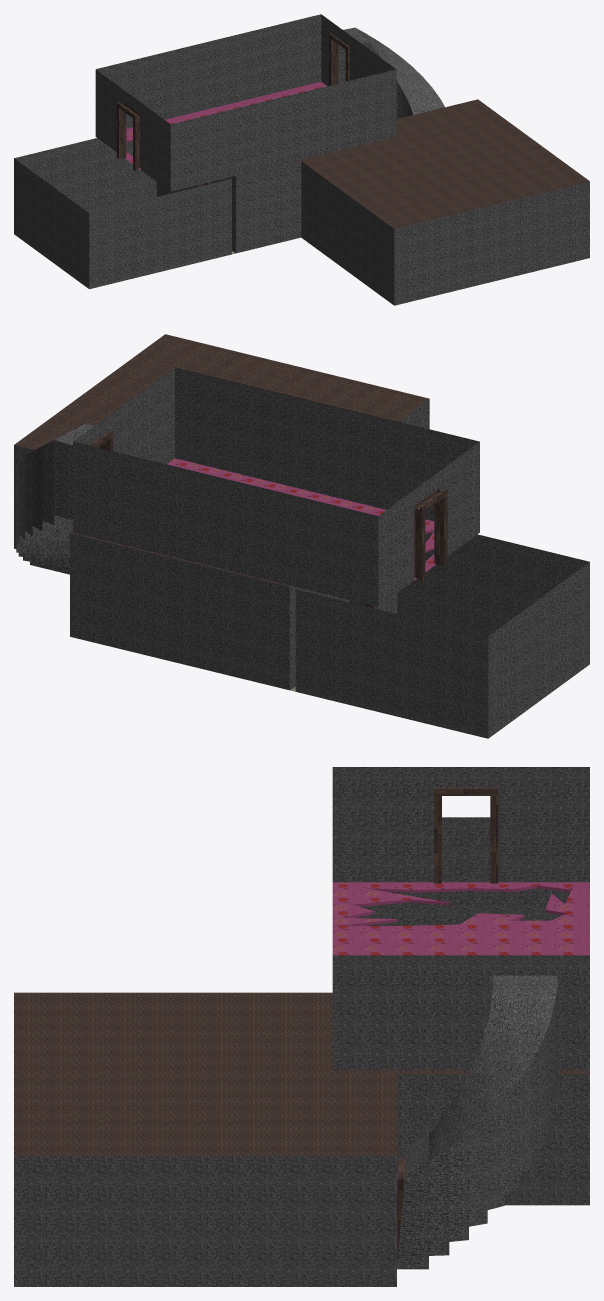
The model's file is Level.obj.
3 views of the same model, one above another, from view 1: azimuth 30°, elevation 25°; view 2: azimuth 150°, elevation 25°; view 3: azimuth 270°, elevation 25° (orthographic). The views are drawn at different scales.
Parts seen in each view (by area): view 1: Level; view 2: Level; view 3: Level.
Boxes of the visible parts, bbox=[...] form: Level: bbox=[14, 14, 589, 305]; Level: bbox=[14, 334, 589, 738]; Level: bbox=[14, 767, 589, 1286].
Size of the model in its own units: 25 by 8.5 by 17.9.
